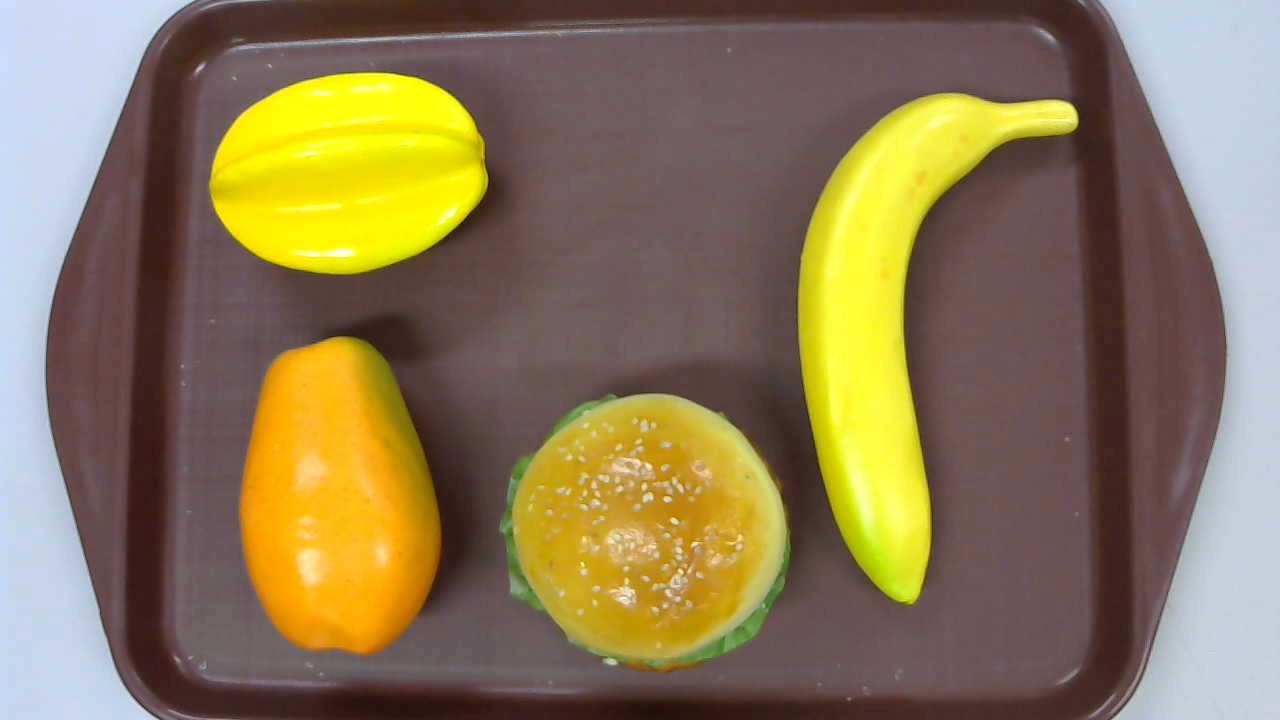banana: (797, 91, 1078, 604)
hamburger: (499, 391, 791, 676)
papya: (240, 334, 441, 656)
star fruit: (208, 71, 488, 276)
